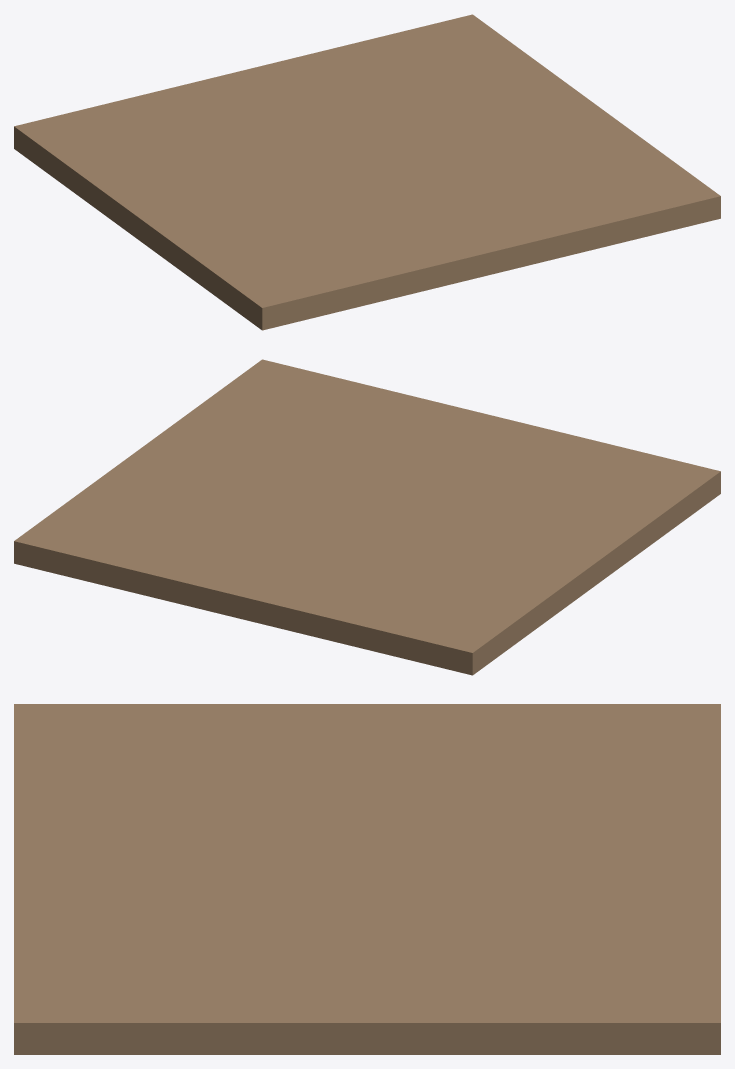
File: baseFloor3x3.fbx
3 renders of one model, top to bottom at view 1: azimuth 30°, elevation 25°; view 2: azimuth 150°, elevation 25°; view 3: azimuth 270°, elevation 25°, orthographic. The views are drawn at different scales.
Parts seen in each view (by area): view 1: floor; view 2: floor; view 3: floor.
Boxes of the visible parts, x1,y1,x2,y2 form: floor: [14, 14, 720, 330]; floor: [14, 359, 720, 675]; floor: [14, 704, 720, 1054].
Bounding box in the file's own units: 6.4 × 0.3 × 6.
